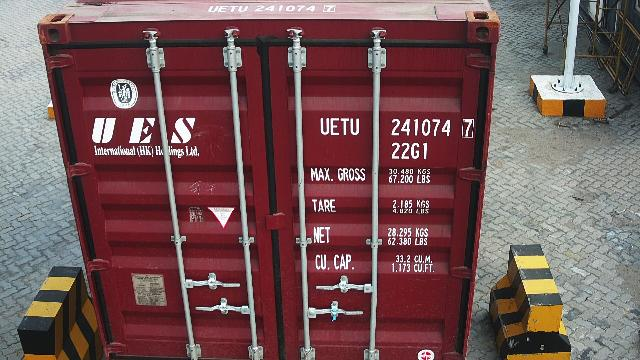0: (422, 118, 431, 137)
1: (413, 118, 419, 137)
2: (390, 118, 400, 136)
4: (441, 118, 451, 138), (401, 118, 411, 137)
7: (462, 118, 474, 138), (432, 118, 441, 136)
E: (330, 118, 340, 136)
T: (340, 118, 350, 136)
U: (320, 117, 330, 135), (350, 118, 360, 136)
